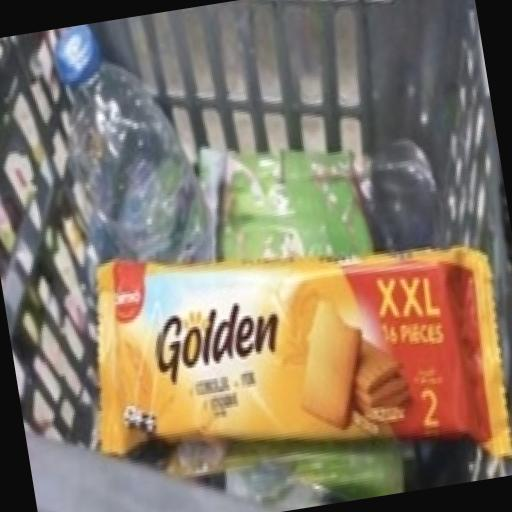golden: (55, 125, 512, 512)
